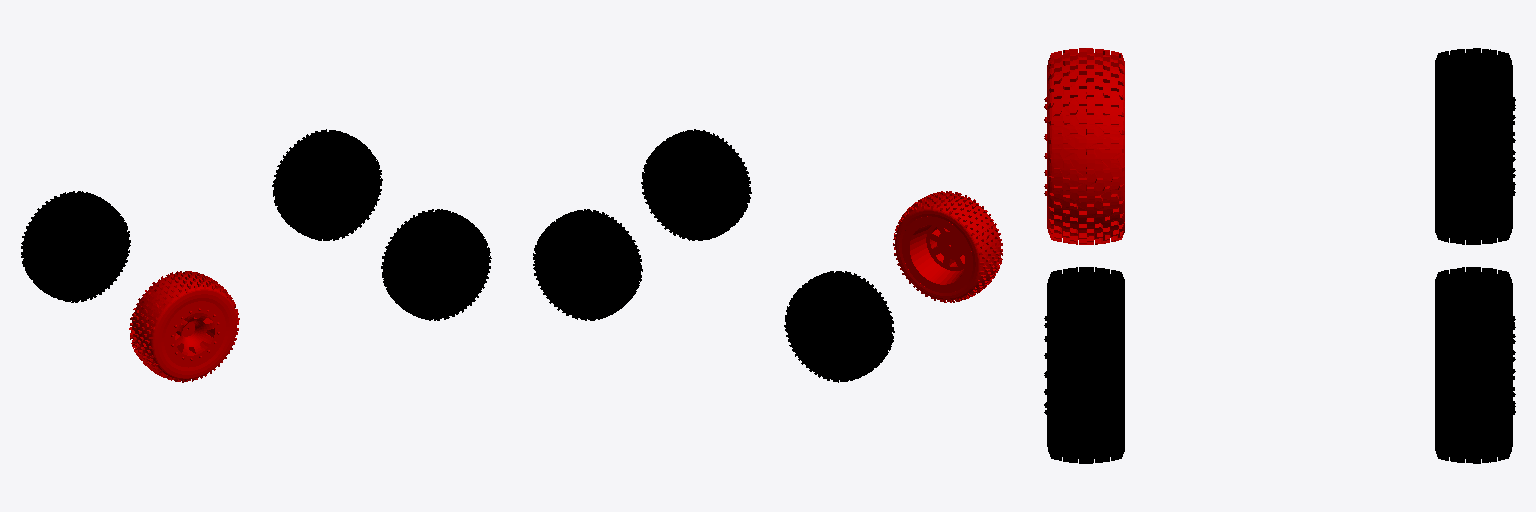
The robot description file, URDF, robot "virtual_robot":
<?xml version="1.0" encoding="utf-8"?>
<!-- =================================================================================== -->
<!-- |    This document was autogenerated by xacro from macros.xacro                   | -->
<!-- |    EDITING THIS FILE BY HAND IS NOT RECOMMENDED                                 | -->
<!-- =================================================================================== -->
<robot name="virtual_robot">
  <!-- ###### INERTIA, VISUAL, & COLLISION MACROS ####################################-->
  <!-- inertial parameter macros -->
  <!-- visual geometry macros -->
  <!-- collision macros -->
  <!-- transmission macros -->
  <!-- ###### LINK & JOINT DEFINTIONS ####################################-->
  <!-- Add chassis and it's inertia link -->
  <link name="car_1_base_link"/>
  <link name="car_1_chassis">
    <visual>
      <origin rpy="-1.5708 0 3.1416" xyz="0.165 0.3305 -0.01"/>
      <geometry>
        <mesh filename="package://f1tenth-sim/urdf/meshes/chassis.STL" scale="0.00095 0.000925 0.000925"/>
      </geometry>
      <material name="red"/>
    </visual>
    <!-- <collision>
      <xacro:chassis_collision_geometry />
    </collision>
    <surface>
        <friction>
            <ode>
                <mu>${WHEELSURFACEFRICTION}</mu>
                <mu2>${WHEELSURFACEFRICTION}</mu2>
                <slip1>${WHEELSURFACESLIP}</slip1>
                <slip2>${WHEELSURFACESLIP}</slip2>
            </ode>
        </friction>
    </surface> -->
  </link>
  <joint name="car_1_base_link_joint" type="fixed">
    <origin rpy="0 0 0" xyz="0 0 0.05"/>
    <parent link="car_1_base_link"/>
    <child link="car_1_chassis"/>
  </joint>
  <link name="car_1_chassis_inertia">
    <inertial>
      <origin rpy="0 0 0" xyz="0.1477 0 0"/>
      <mass value="20.0"/>
      <inertia ixx="1.36333333333" ixy="0" ixz="0" iyy="0.468166666667" iyz="0" izz="1.57016666667"/>
      <!-- <inertia ixx="0.010609" ixy="0"          ixz="0"
                            iyy="0.050409"   iyz="0"
                                             izz="0.05865" /> -->
    </inertial>
  </link>
  <joint name="car_1_chassis_inertia_joint" type="fixed">
    <origin rpy="0 0 0" xyz="0 0 0"/>
    <parent link="car_1_chassis"/>
    <child link="car_1_chassis_inertia"/>
  </joint>
  <!-- Add the left front wheel with its joints and transmissions -->
  <link name="car_1_left_front_wheel">
    <inertial>
      <origin rpy="0 0 0" xyz="0 0 0.0225"/>
      <mass value="0.453592"/>
      <inertia ixx="0.000826397374833" ixy="0" ixz="0" iyy="0.000826397374833" iyz="0" izz="0.00438589880657"/>
      <!-- <inertia ixx="0.00026046" ixy="0"          ixz="0"
                                  iyy="0.00026046" iyz="0"
                                                  izz="0.00041226" /> -->
    </inertial>
    <visual>
      <origin rpy="0 0 0" xyz="0 0 0.0225"/>
      <geometry>
        <mesh filename="package://f1tenth-sim/urdf/meshes/wheel.dae" scale="0.0012 0.0012 0.0012"/>
      </geometry>
      <material name="black"/>
    </visual>
    <collision>
      <origin rpy="0 0 0" xyz="0 0 0.0225"/>
      <geometry>
        <cylinder length="0.06" radius="0.055"/>
      </geometry>
    </collision>
    <surface>
      <friction>
        <ode>
          <mu>0.9</mu>
          <mu2>0.9</mu2>
          <slip1>0.1</slip1>
          <slip2>0.1</slip2>
        </ode>
      </friction>
    </surface>
  </link>
  <joint name="car_1_left_front_wheel_joint" type="continuous">
    <origin rpy="-1.5708 0 0" xyz="0 0 0"/>
    <parent link="car_1_left_steering_hinge"/>
    <child link="car_1_left_front_wheel"/>
    <axis xyz="0 0 1"/>
    <joint_properties damping="0.5" friction="0.5"/>
    <limit effort="20" velocity="300"/>
  </joint>
  <transmission name="car_1_left_front_wheel_transmission" type="SimpleTransmission">
    <type>transmission_interface/SimpleTransmission</type>
    <joint name="car_1_left_front_wheel_joint">
      <hardwareInterface>hardware_interface/EffortJointInterface</hardwareInterface>
    </joint>
    <actuator name="car_1_left_front_wheel_motor">
      <hardwareInterface>hardware_interface/EffortJointInterface</hardwareInterface>
      <mechanicalReduction>1</mechanicalReduction>
    </actuator>
  </transmission>
  <!-- Add the left rear wheel with its joints and transmissions -->
  <link name="car_1_left_rear_wheel">
    <inertial>
      <origin rpy="0 0 0" xyz="0 0 0.0225"/>
      <mass value="0.453592"/>
      <inertia ixx="0.000826397374833" ixy="0" ixz="0" iyy="0.000826397374833" iyz="0" izz="0.00438589880657"/>
      <!-- <inertia ixx="0.00026046" ixy="0"          ixz="0"
                                  iyy="0.00026046" iyz="0"
                                                  izz="0.00041226" /> -->
    </inertial>
    <visual>
      <origin rpy="0 0 0" xyz="0 0 0.0225"/>
      <geometry>
        <mesh filename="package://f1tenth-sim/urdf/meshes/wheel.dae" scale="0.0012 0.0012 0.0012"/>
      </geometry>
      <material name="black"/>
    </visual>
    <collision>
      robot
      
      <origin rpy="0 0 0" xyz="0 0 0.0225"/>
      <geometry>
        <cylinder length="0.06" radius="0.055"/>
      </geometry>
    </collision>
    <surface>
      <friction>
        <ode>
          <mu>0.9</mu>
          <mu2>0.9</mu2>
          <slip1>0.1</slip1>
          <slip2>0.1</slip2>
        </ode>
      </friction>
    </surface>
  </link>
  <joint name="car_1_left_rear_wheel_joint" type="continuous">
    <origin rpy="-1.5708 0 0" xyz="0 0.1 0"/>
    <parent link="car_1_chassis"/>
    <child link="car_1_left_rear_wheel"/>
    <axis xyz="0 0 1"/>
    <limit effort="20" velocity="300"/>
  </joint>
  <transmission name="car_1_left_rear_wheel_transmission" type="SimpleTransmission">
    <type>transmission_interface/SimpleTransmission</type>
    <joint name="car_1_left_rear_wheel_joint">
      <hardwareInterface>hardware_interface/EffortJointInterface</hardwareInterface>
    </joint>
    <actuator name="car_1_left_rear_wheel_motor">
      <hardwareInterface>hardware_interface/EffortJointInterface</hardwareInterface>
      <mechanicalReduction>1</mechanicalReduction>
    </actuator>
  </transmission>
  <!-- Add the right front wheel with its joints and transmissions -->
  <link name="car_1_right_front_wheel">
    <inertial>
      <origin rpy="0 0 0" xyz="0 0 0.0225"/>
      <mass value="0.453592"/>
      <inertia ixx="0.000826397374833" ixy="0" ixz="0" iyy="0.000826397374833" iyz="0" izz="0.00438589880657"/>
      <!-- <mass value="0.453592" />
    <inertia ixx="0.00026046" ixy="0"          ixz="0"
                              iyy="0.00026046" iyz="0"
                                               izz="0.00041226" /> -->
    </inertial>
    <visual>
      <origin rpy="0 0 0" xyz="0 0 0.0225"/>
      <geometry>
        <mesh filename="package://f1tenth-sim/urdf/meshes/wheel.dae" scale="0.0012 0.0012 0.0012"/>
      </geometry>
      <material name="black"/>
    </visual>
    <collision>
      <origin rpy="0 0 0" xyz="0 0 0.0225"/>
      <geometry>
        <cylinder length="0.06" radius="0.055"/>
      </geometry>
    </collision>
    <surface>
      <friction>
        <ode>
          <mu>0.9</mu>
          <mu2>0.9</mu2>
          <slip1>0.1</slip1>
          <slip2>0.1</slip2>
        </ode>
      </friction>
    </surface>
  </link>
  <joint name="car_1_right_front_wheel_joint" type="continuous">
    <origin rpy="1.5708 0 0" xyz="0 0 0"/>
    <parent link="car_1_right_steering_hinge"/>
    <child link="car_1_right_front_wheel"/>
    <axis xyz="0 0 -1"/>
    <limit effort="20" velocity="300"/>
  </joint>
  <transmission name="car_1_right_front_wheel_transmission" type="SimpleTransmission">
    <type>transmission_interface/SimpleTransmission</type>
    <joint name="car_1_right_front_wheel_joint">
      <hardwareInterface>hardware_interface/EffortJointInterface</hardwareInterface>
    </joint>
    <actuator name="car_1_right_front_wheel_motor">
      <hardwareInterface>hardware_interface/EffortJointInterface</hardwareInterface>
      <mechanicalReduction>1</mechanicalReduction>
    </actuator>
  </transmission>
  <!-- Add the right rear wheel with its joints and transmissions -->
  <link name="car_1_right_rear_wheel">
    <inertial>
      <origin rpy="0 0 0" xyz="0 0 0.0225"/>
      <mass value="0.453592"/>
      <inertia ixx="0.000826397374833" ixy="0" ixz="0" iyy="0.000826397374833" iyz="0" izz="0.00438589880657"/>
      <!-- <mass value="0.453592" />
    <inertia ixx="0.00026046" ixy="0"          ixz="0"
                              iyy="0.00026046" iyz="0"
                                               izz="0.00041226" /> -->
    </inertial>
    <visual>
      <origin rpy="0 0 0" xyz="0 0 0.0225"/>
      <geometry>
        <mesh filename="package://f1tenth-sim/urdf/meshes/wheel.dae" scale="0.0012 0.0012 0.0012"/>
      </geometry>
      <material name="red"/>
    </visual>
    <collision>
      <origin rpy="0 0 0" xyz="0 0 0.0225"/>
      <geometry>
        <cylinder length="0.06" radius="0.055"/>
      </geometry>
    </collision>
    <surface>
      <friction>
        <ode>
          <mu>0.9</mu>
          <mu2>0.9</mu2>
          <slip1>0.1</slip1>
          <slip2>0.1</slip2>
        </ode>
      </friction>
    </surface>
  </link>
  <joint name="car_1_right_rear_wheel_joint" type="continuous">
    <origin rpy="1.5708 0 0" xyz="0 -0.1 0"/>
    <parent link="car_1_chassis"/>
    <child link="car_1_right_rear_wheel"/>
    <axis xyz="0 0 -1"/>
    <limit effort="20" velocity="300"/>
  </joint>
  <transmission name="car_1_right_rear_wheel_transmission" type="SimpleTransmission">
    <type>transmission_interface/SimpleTransmission</type>
    <joint name="car_1_right_rear_wheel_joint">
      <hardwareInterface>hardware_interface/EffortJointInterface</hardwareInterface>
    </joint>
    <actuator name="car_1_right_rear_wheel_motor">
      <hardwareInterface>hardware_interface/EffortJointInterface</hardwareInterface>
      <mechanicalReduction>1</mechanicalReduction>
    </actuator>
  </transmission>
  <!-- Add the left steering hinge with its joints and transmissions -->
  <link name="car_1_left_steering_hinge">
    <inertial>
      <origin rpy="0 0 0" xyz="0 0 0"/>
      <mass value="0.100"/>
      <inertia ixx="4E-06" ixy="0" ixz="0" iyy="4E-06" iyz="0" izz="4E-06"/>
    </inertial>
    <visual>
      <origin rpy="0 0 0" xyz="0 0 0"/>
      <geometry>
        <mesh filename="package://f1tenth-sim/urdf/meshes/hinge.stl"/>
      </geometry>
      <material name="grey"/>
    </visual>
  </link>
  <joint name="car_1_left_steering_hinge_joint" type="revolute">
    <origin rpy="0 0 0" xyz="0.325 0.1 0"/>
    <parent link="car_1_chassis"/>
    <child link="car_1_left_steering_hinge"/>
    <axis xyz="0 0 1"/>
    <limit effort="10" lower="-0.523599" upper="0.523599" velocity="100"/>
  </joint>
  <transmission name="car_1_left_steering_hinge_transmission" type="SimpleTransmission">
    <type>transmission_interface/SimpleTransmission</type>
    <joint name="car_1_left_steering_hinge_joint">
      <hardwareInterface>hardware_interface/EffortJointInterface</hardwareInterface>
    </joint>
    <actuator name="car_1_left_steering_hinge_motor">
      <hardwareInterface>hardware_interface/EffortJointInterface</hardwareInterface>
      <mechanicalReduction>1</mechanicalReduction>
    </actuator>
  </transmission>
  <!-- Add the right steering hinge with its joints and transmissions -->
  <link name="car_1_right_steering_hinge">
    <inertial>
      <origin rpy="0 0 0" xyz="0 0 0"/>
      <mass value="0.100"/>
      <inertia ixx="4E-06" ixy="0" ixz="0" iyy="4E-06" iyz="0" izz="4E-06"/>
    </inertial>
    <visual>
      <origin rpy="0 0 0" xyz="0 0 0"/>
      <geometry>
        <mesh filename="package://f1tenth-sim/urdf/meshes/hinge.stl"/>
      </geometry>
      <material name="grey"/>
    </visual>
  </link>
  <joint name="car_1_right_steering_hinge_joint" type="revolute">
    <origin rpy="0 0 0" xyz="0.325 -0.1 0"/>
    <parent link="car_1_chassis"/>
    <child link="car_1_right_steering_hinge"/>
    <axis xyz="0 0 1"/>
    <limit effort="10" lower="-0.523599" upper="0.523599" velocity="100"/>
  </joint>
  <transmission name="car_1_right_steering_hinge_transmission" type="SimpleTransmission">
    <type>transmission_interface/SimpleTransmission</type>
    <joint name="car_1_right_steering_hinge_joint">
      <hardwareInterface>hardware_interface/EffortJointInterface</hardwareInterface>
    </joint>
    <actuator name="car_1_right_steering_hinge_motor">
      <hardwareInterface>hardware_interface/EffortJointInterface</hardwareInterface>
      <mechanicalReduction>1</mechanicalReduction>
    </actuator>
  </transmission>
  <!-- Add Hokuyo laser scanner -->
  <link name="car_1_laser">
    <inertial>
      <origin rpy="0 0 0" xyz="0 0 0"/>
      <mass value="0.130"/>
      <inertia ixx="4E-06" ixy="0" ixz="0" iyy="4E-06" iyz="0" izz="4E-06"/>
    </inertial>
    <collision>
      <origin rpy="0 0 0" xyz="0 0 0"/>
      <geometry>
        <box size="0.060 0.060 0.080"/>
      </geometry>
    </collision>
    <visual>
      <origin rpy="0 0 0" xyz="0 0 0"/>
      <geometry>
        <mesh filename="package://f1tenth-sim/urdf/meshes/hokuyo.stl"/>
        <material name="grey"/>
      </geometry>
    </visual>
  </link>
  <joint name="car_1_hokuyo_joint" type="fixed">
    <origin rpy="0 0 0" xyz="0.35 0.0 0.075"/>
    <parent link="car_1_chassis"/>
    <child link="car_1_laser"/>
    <axis xyz="0 0 1"/>
  </joint>
  <!-- camera class (spawn parameters) -->
  <!-- <link name="$(arg robot_name)_link">
    <inertial>
      <mass value="1e-5" />
      <origin xyz="0 0 0.25" rpy="0 0 0"/>
      <inertia ixx="1e-6" ixy="0" ixz="0" iyy="1e-6" iyz="0" izz="1e-6" />
    </inertial>
    <collision>
      <origin xyz="0 0 0.25" rpy="0 0 0"/>
      <geometry>
        <box size="0.033 0.175 0.030"/>
      </geometry>
    </collision>
    <visual>
      <origin xyz="0 0 0.025" rpy="0 0 0"/>
      <geometry>
        <box size="0.033 0.175 0.030"/>
      </geometry>
      <material name="red"/>
    </visual>
  </link>

  <joint name="$(arg robot_name)_joint" type="fixed">
    <origin xyz="0.390 0 0.025" rpy="0 0 0"/>
    <parent link="$(arg robot_name)_chassis"/>
    <child link="$(arg robot_name)_link"/>
    <axis xyz="0 0 1" />
  </joint> -->
  <!-- camera lenses -->
  <!-- <link name="$(arg robot_name)_camera_link">
    <inertial>
      <mass value="1e-5" />
      <origin xyz="-2.5 1.5 1.75" rpy="0 .57 -0.57"/>
      <inertia ixx="1e-6" ixy="0" ixz="0" iyy="1e-6" iyz="0" izz="1e-6" />
    </inertial>
  </link>
  <link name="$(arg robot_name)_right_link">
    <inertial>
      <mass value="1e-5" />
      <origin xyz="-2.5 1.5 1.75" rpy="0 .57 -0.57"/>
      <inertia ixx="1e-6" ixy="0" ixz="0" iyy="1e-6" iyz="0" izz="1e-6" />
    </inertial>
  </link>

  <joint name="$(arg robot_name)_left_joint" type="fixed">
    <origin xyz="-2.5 1.5 1.75" rpy="0 .57 -0.57"/>
    <parent link="$(arg robot_name)_link"/>
    <child link="$(arg robot_name)_camera_link"/>
    <axis xyz="0 0 1" />
  </joint>
  <joint name="$(arg robot_name)_right_joint" type="fixed">
    <origin xyz="0 -0.06 0.025" rpy="0 0 0"/>
    <parent link="$(arg robot_name)_link"/>
    <child link="$(arg robot_name)_right_link"/>
    <axis xyz="0 0 1" />
  </joint> -->
  <!-- #### GAZEBO SIMULATION SETTINGS #### -->
  <!-- Gazebo Material References -->
  <gazebo reference="car_1_chassis">
    <kp value="10000000.0"/>
    <kd value="1.0"/>
    <material>Gazebo/Blue</material>
  </gazebo>
  <gazebo reference="car_1_left_rear_wheel">
    <kp value="10000000.0"/>
    <kd value="1.0"/>
    <material>Gazebo/DarkGrey</material>
  </gazebo>
  <gazebo reference="car_1_right_rear_wheel">
    <kp value="10000000.0"/>
    <kd value="1.0"/>
    <material>Gazebo/DarkGrey</material>
  </gazebo>
  <gazebo reference="car_1_left_front_wheel">
    <kp value="10000000.0"/>
    <kd value="1.0"/>
    <material>Gazebo/DarkGrey</material>
  </gazebo>
  <gazebo reference="car_1_right_front_wheel">
    <kp value="10000000.0"/>
    <kd value="1.0"/>
    <material>Gazebo/DarkGrey</material>
  </gazebo>
  <!-- Gazebo plugins -->
  <gazebo>
    <plugin filename="libgazebo_ros_control.so" name="gazebo_ros_control">
      <robotNamespace>/car_1</robotNamespace>
      <robotSimType>gazebo_ros_control/DefaultRobotHWSim</robotSimType>
    </plugin>
  </gazebo>
  <!-- Odometry (cheap hack) -->
  <gazebo>
    <plugin filename="libgazebo_ros_p3d.so" name="p3d_base_controller">
      <alwaysOn>true</alwaysOn>
      <updateRate>50.0</updateRate>
      <bodyName>car_1_base_link</bodyName>
      <topicName>/car_1/ground_truth</topicName>
      <gaussianNoise>0.01</gaussianNoise>
      <frameName>world</frameName>
      <xyzOffsets>0 0 0</xyzOffsets>
      <rpyOffsets>0 0 0</rpyOffsets>
    </plugin>
  </gazebo>
  <gazebo reference="car_1_laser">
    <material>Gazebo/Grey</material>
    <sensor name="car_1_hokuyo_sensor" type="ray">
      <pose>0 0 0.0124 0 0 0</pose>
      <visualize>true</visualize>
      <update_rate>40</update_rate>
      <ray>
        <scan>
          <horizontal>
            <samples>1081</samples>
            <resolution>1</resolution>
            <min_angle>-2.3561944902</min_angle>
            <max_angle>2.3561944902</max_angle>
          </horizontal>
        </scan>
        <range>
          <min>0.1</min>
          <max>30.0</max>
          <resolution>0.01</resolution>
        </range>
        <noise>
          <mean>0.0</mean>
          <stddev>0.01</stddev>
        </noise>
      </ray>
      <plugin filename="libgazebo_ros_laser.so" name="gazebo_ros_hokuyo_controller">
        <topicName>/car_1/scan</topicName>
        <frameName>car_1_laser</frameName>
      </plugin>
    </sensor>
  </gazebo>
  <gazebo reference="car_1_camera_link">
    <sensor name="car_1_left_sensor" type="camera">
      <update_rate>30.0</update_rate>
      <!-- math.atan(320 / 687.8065795898438) * 2 -->
      <camera name="front_camera">
        <!-- horizontal_fov>0.8709216071359963</horizontal_fov -->
        <horizontal_fov>1.74</horizontal_fov>
        <image>
          <width>1920</width>
          <height>1080</height>
          <format>B8G8R8</format>
        </image>
        <clip>
          <near>0.02</near>
          <far>300</far>
        </clip>
        <noise>
          <type>gaussian</type>
          <mean>0.0</mean>
          <stddev>0.007</stddev>
        </noise>
      </camera>
      <plugin filename="libgazebo_ros_camera.so" name="camera_controller">
        <alwaysOn>true</alwaysOn>
        <updateRate>30.0</updateRate>
        <cameraName>/car_1/camera</cameraName>
        <imageTopicName>image</imageTopicName>
        <cameraInfoTopicName>rgb/camera_info</cameraInfoTopicName>
        <frameName>car_1_camera_link</frameName>
        <hackBaseline>0</hackBaseline>
        <!-- set this to 0.12 for the second camera -->
        <distortionK1>0.0</distortionK1>
        <distortionK2>0.0</distortionK2>
        <distortionK3>0.0</distortionK3>
        <distortionT1>0.0</distortionT1>
        <distortionT2>0.0</distortionT2>
      </plugin>
    </sensor>
  </gazebo>
  <material name="black">
    <color rgba="0.0 0.0 0.0 1.0"/>
  </material>
  <material name="blue">
    <color rgba="0.0 0.0 0.8 1.0"/>
  </material>
  <material name="green">
    <color rgba="0.0 0.8 0.0 1.0"/>
  </material>
  <material name="grey">
    <color rgba="0.2 0.2 0.2 1.0"/>
  </material>
  <material name="orange">
    <color rgba="1.0 0.423529411765 0.0392156862745 1.0"/>
  </material>
  <material name="brown">
    <color rgba="0.870588235294 0.811764705882 0.764705882353 1.0"/>
  </material>
  <material name="red">
    <color rgba="0.8 0.0 0.0 1.0"/>
  </material>
  <material name="white">
    <color rgba="1.0 1.0 1.0 1.0"/>
  </material>
</robot>

--- Facts derived from the render (not from the file) ---
The picture shows the robot from 3 angles, left to right: view 1: azimuth 30°, elevation 25°; view 2: azimuth 150°, elevation 25°; view 3: azimuth 270°, elevation 25°; orthographic projection.
Robot: virtual_robot — 10 links, 9 joints (2 revolute, 4 continuous, 3 fixed); root link car_1_base_link; default pose: every joint at zero.
Links seen in each view (by area): view 1: car_1_right_front_wheel, car_1_left_front_wheel, car_1_left_rear_wheel, car_1_right_rear_wheel; view 2: car_1_right_rear_wheel, car_1_left_rear_wheel, car_1_right_front_wheel, car_1_left_front_wheel; view 3: car_1_left_rear_wheel, car_1_left_front_wheel, car_1_right_rear_wheel, car_1_right_front_wheel.
Link boxes in pixels (<box>): car_1_right_front_wheel: <box>381,209,491,320</box>; car_1_left_front_wheel: <box>272,129,382,240</box>; car_1_left_rear_wheel: <box>21,191,130,302</box>; car_1_right_rear_wheel: <box>129,271,239,382</box>; car_1_right_rear_wheel: <box>893,191,1002,302</box>; car_1_left_rear_wheel: <box>784,271,894,382</box>; car_1_right_front_wheel: <box>641,129,751,240</box>; car_1_left_front_wheel: <box>533,209,642,320</box>; car_1_left_rear_wheel: <box>1435,48,1515,244</box>; car_1_left_front_wheel: <box>1435,267,1515,463</box>; car_1_right_rear_wheel: <box>1044,48,1124,244</box>; car_1_right_front_wheel: <box>1044,267,1124,463</box>.
Bounding box of the posed robot: 0.4486 × 0.2958 × 0.1236 m (x, y, z).
4 mesh visuals loaded from 4 distinct referenced files (1 Collada DAE); not drawn: 4 (reference not matched to a file when rendering).
